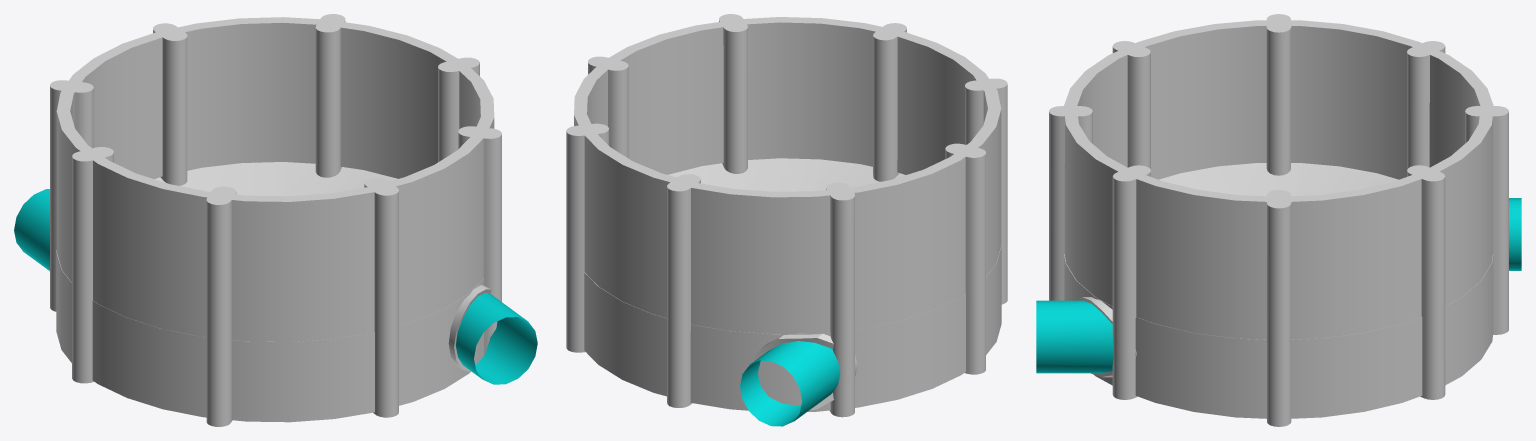
Rendered from FluidStorageDefaultInternalVariant.gltf.
The picture shows the model from 3 angles, left to right: view 1: azimuth 30°, elevation 25°; view 2: azimuth 150°, elevation 25°; view 3: azimuth 270°, elevation 25°; orthographic projection. The views are drawn at different scales.
Parts seen in each view (by area): view 1: PaintTankGlas, PaintTankFoundation; view 2: PaintTankGlas, PaintTankFoundation; view 3: PaintTankGlas, PaintTankFoundation.
Part boxes in pixels (x1,y1,x2,y2): PaintTankGlas: [56, 27, 494, 341]; PaintTankFoundation: [14, 14, 537, 426]; PaintTankGlas: [574, 27, 1001, 333]; PaintTankFoundation: [566, 14, 1007, 426]; PaintTankGlas: [1064, 30, 1492, 339]; PaintTankFoundation: [1036, 14, 1521, 426].
Size of the model in its own units: 1.9 by 0.9936 by 2.
